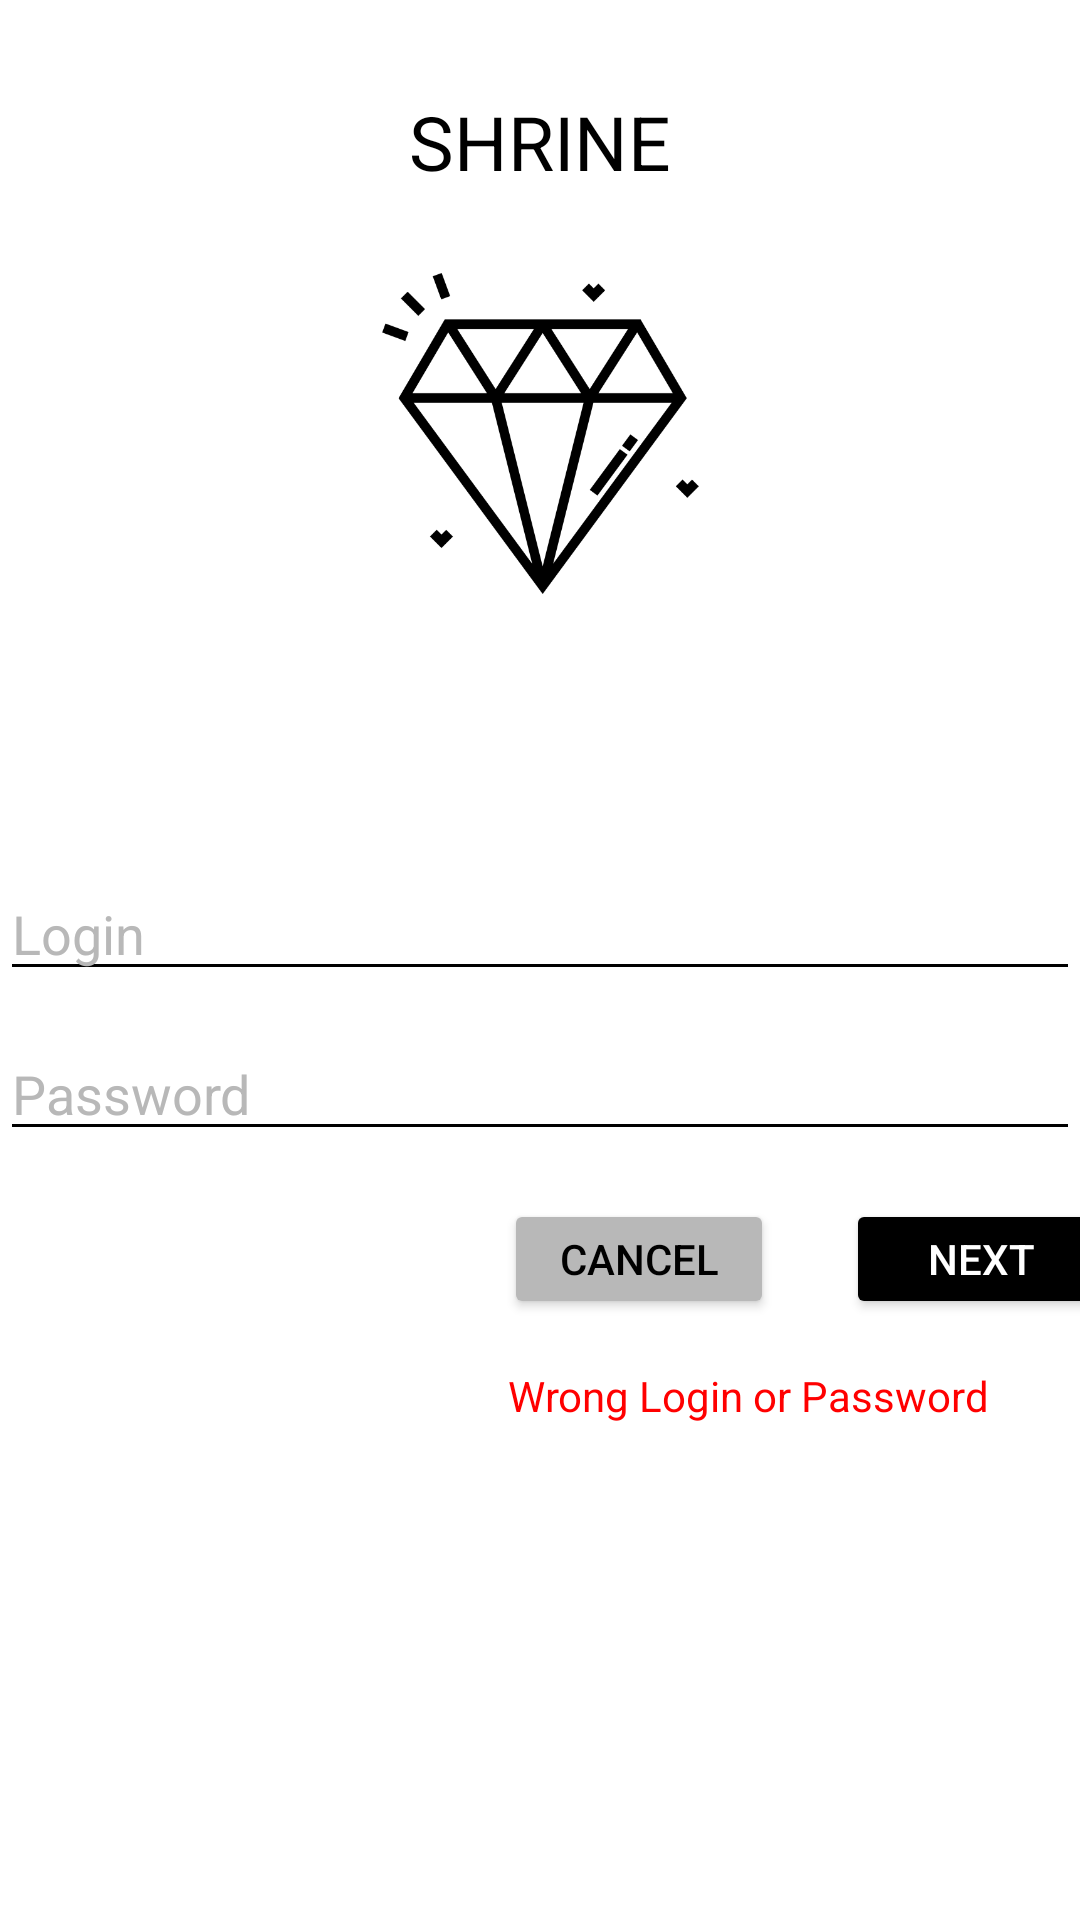

Point at icon controls on the screen. Image size 1080*1920, points as (x,y).
diamond: (540,433)
